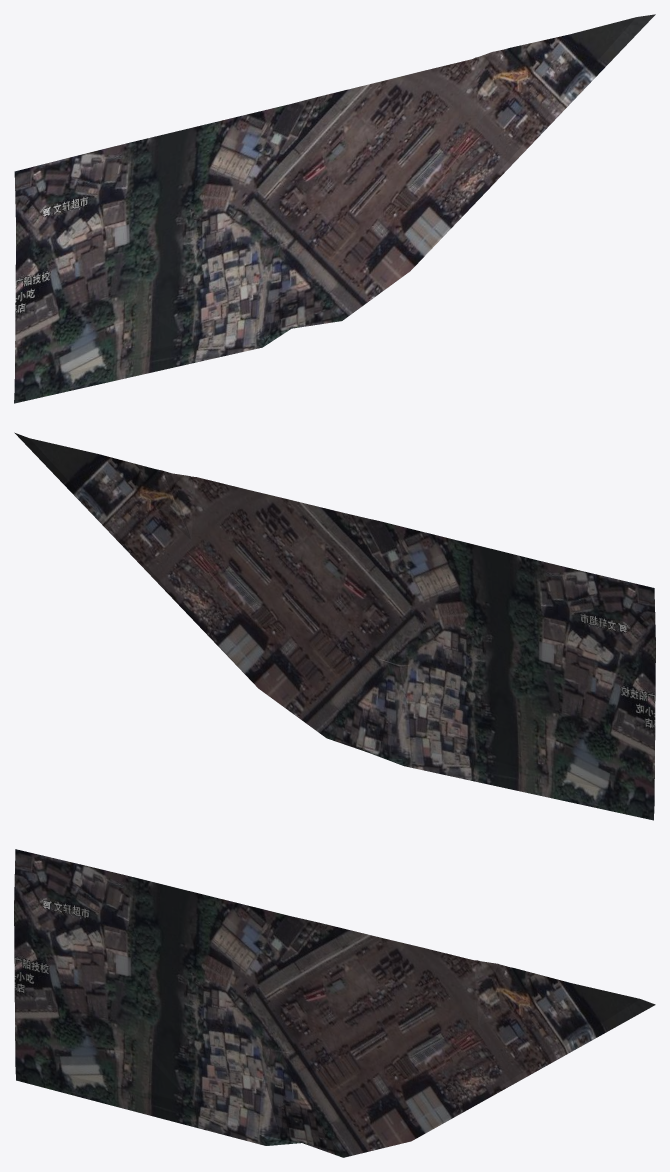
3 views of the same model, one above another, from view 1: azimuth 30°, elevation 25°; view 2: azimuth 150°, elevation 25°; view 3: azimuth 330°, elevation 25° (orthographic).
Visible parts, largest first — view 1: 0_3_2_0_3_3; view 2: 0_3_2_0_3_3; view 3: 0_3_2_0_3_3.
Part boxes in pixels (x1,y1,x2,y2): 0_3_2_0_3_3: (14, 14, 655, 403); 0_3_2_0_3_3: (14, 432, 655, 820); 0_3_2_0_3_3: (14, 849, 655, 1157).
Size of the model in its own units: 470 by 167 by 8.58.
Materials: 1 (1 with a texture image).
